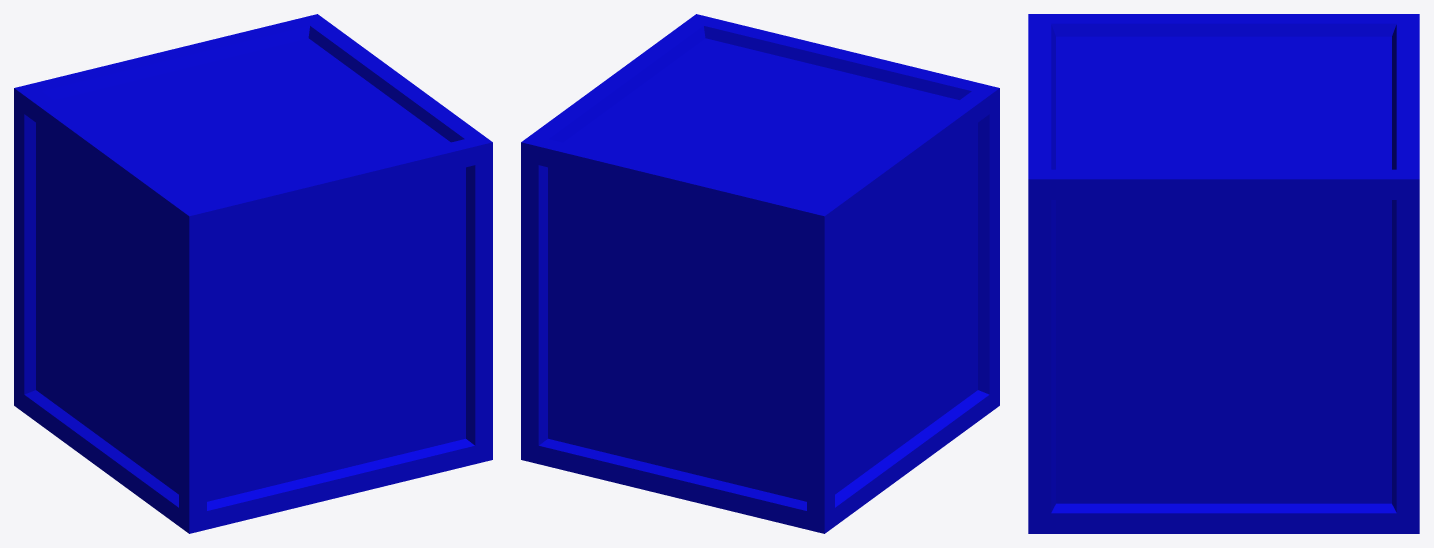
The model's file is Mini_Crate.fbx.
The picture shows the model from 3 angles, left to right: view 1: azimuth 30°, elevation 25°; view 2: azimuth 150°, elevation 25°; view 3: azimuth 270°, elevation 25°; orthographic projection. The views are drawn at different scales.
Parts seen in each view (by area): view 1: pCube28; view 2: pCube28; view 3: pCube28.
Boxes of the visible parts, x1,y1,x2,y2 form: pCube28: [14, 14, 492, 533]; pCube28: [521, 14, 999, 533]; pCube28: [1028, 14, 1419, 533].
Size of the model in its own units: 2.73 by 2.73 by 2.73.
